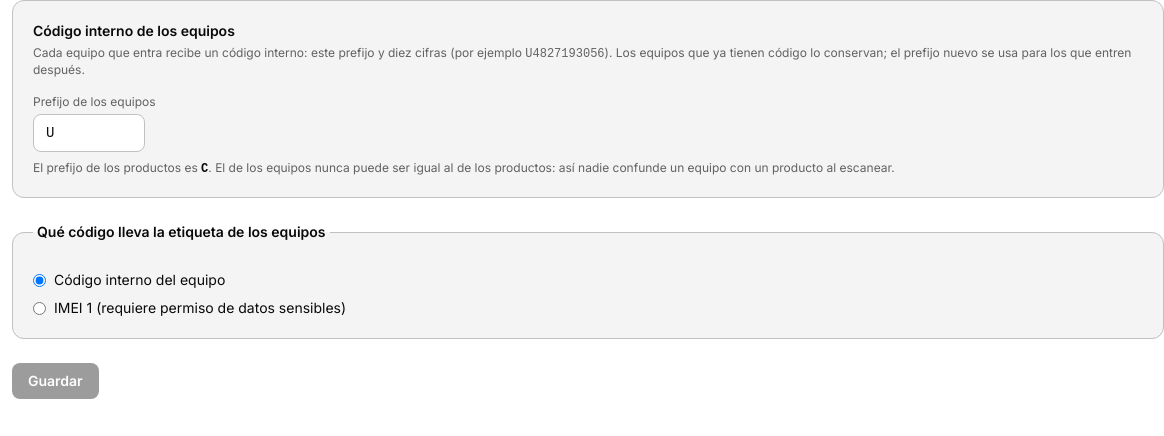
Test case: Configuración de etiquetas › un 400 del servidor se muestra tal cual en su campo
Replace the text in the field labelled "Prefijo de los equipos" with "XY": [89, 133] box [33,114,145,152]
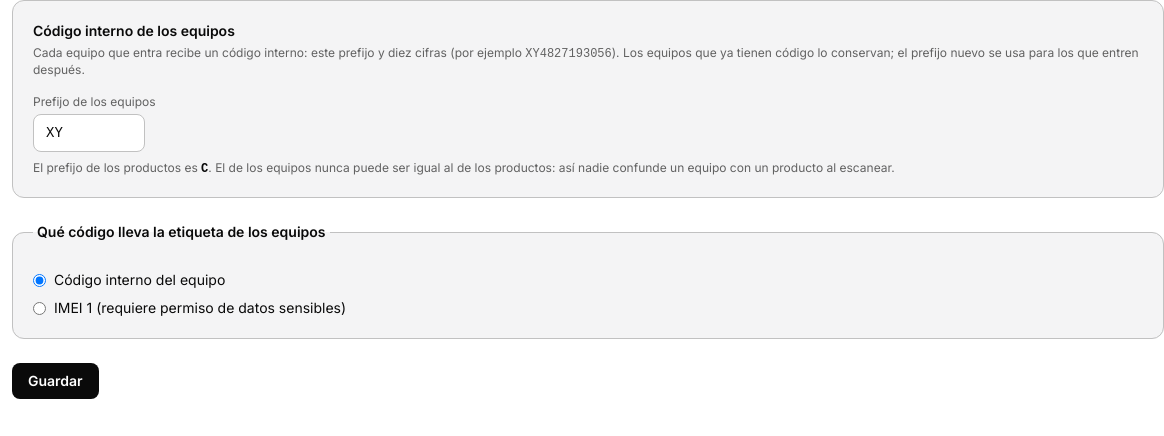
Click the button "Guardar": [55, 381] box [12,363,99,399]
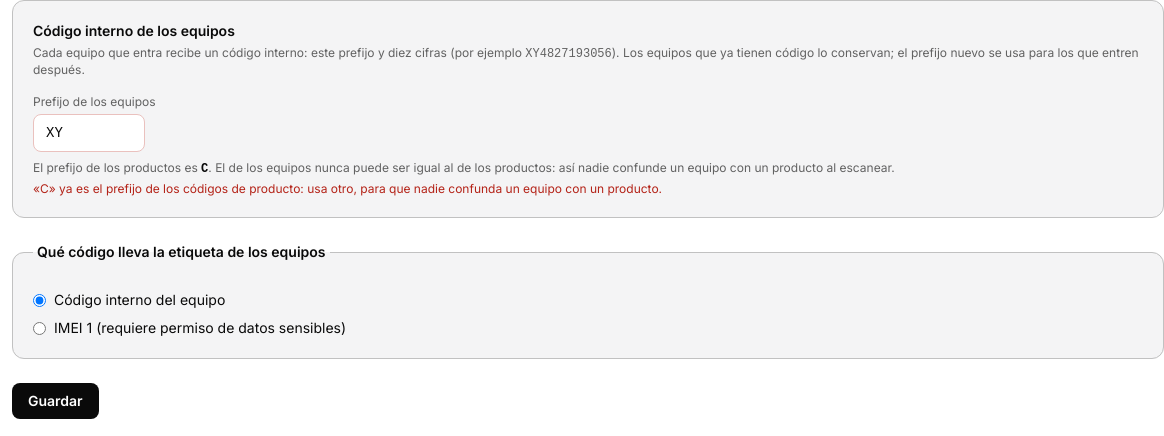
Check: the text "«C» ya es el prefijo de los códigos de producto: usa otro, para que nadie confunda un equipo con un producto." is shown, box [33,181,662,196]
